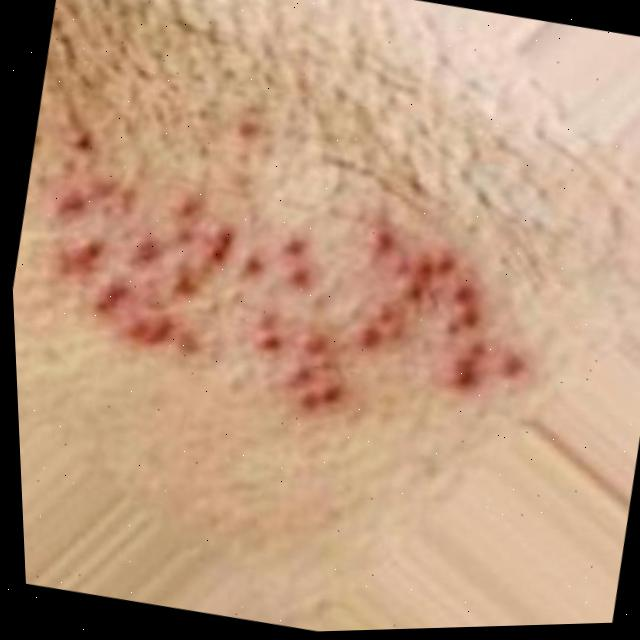Shingles: (40, 151, 569, 442)
